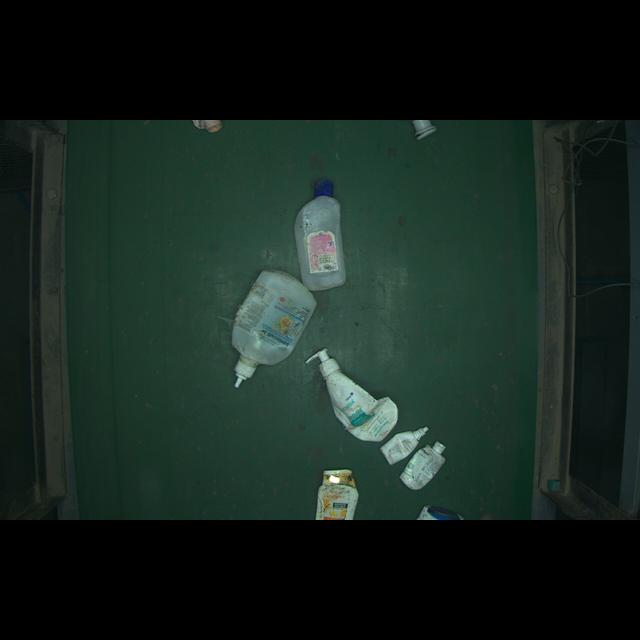mix PET: (227, 259, 311, 394), (303, 343, 401, 443), (285, 173, 351, 291), (394, 440, 466, 489), (371, 424, 438, 466)
